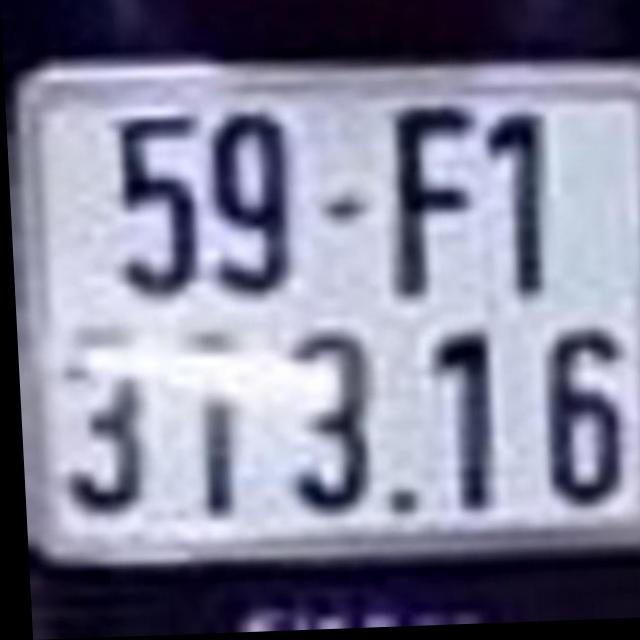1: (486, 118, 548, 295), (427, 344, 491, 512), (178, 338, 232, 516)
3: (286, 331, 368, 510), (61, 359, 146, 505)
5: (113, 114, 200, 288)
6: (547, 327, 620, 510)
9: (207, 113, 284, 291)
F: (385, 105, 478, 301)
